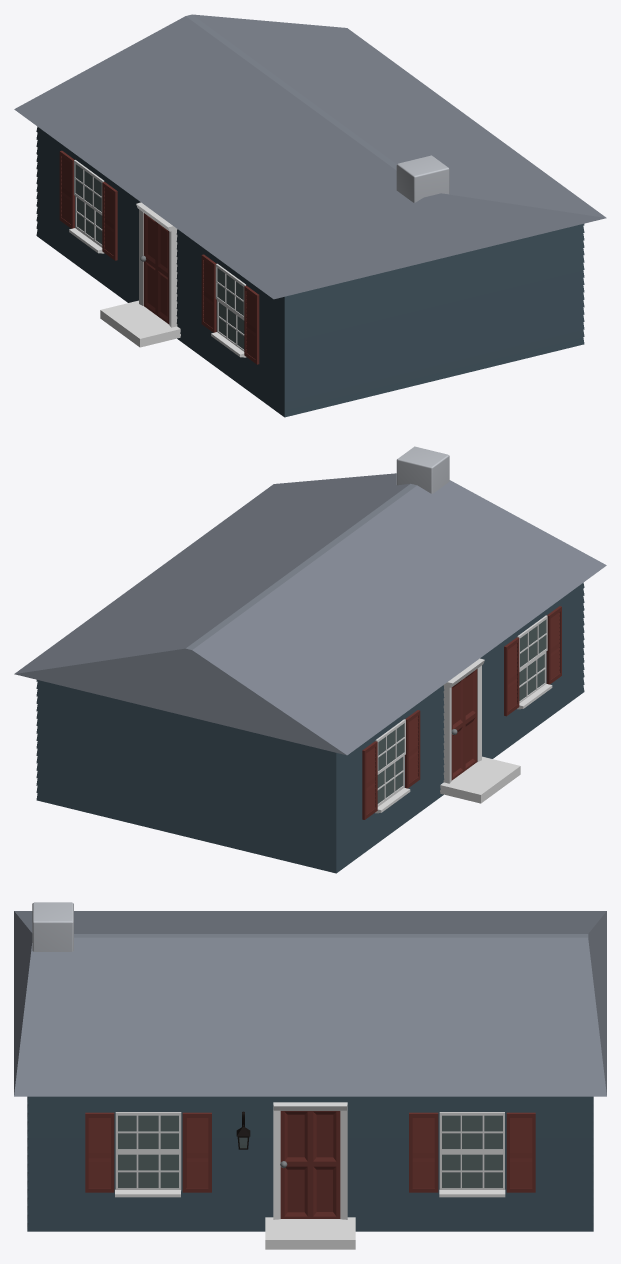
The model's file is blackie_house.fbx.
The picture shows the model from 3 angles, top to bottom: view 1: azimuth 30°, elevation 25°; view 2: azimuth 150°, elevation 25°; view 3: azimuth 270°, elevation 25°; orthographic projection. The views are drawn at different scales.
Parts seen in each view (by area): view 1: new_base, front_door, window_panel_r (×2), window_panel_l (×2), back_door_stoop, chimney1, front_door_frame, window_glass1 (×2), window_glass (×2), window_boxes; view 2: new_base, front_door, window_panel_l (×2), window_panel_r (×2), back_door_stoop, chimney1, front_door_frame, window_glass (×2), window_glass1 (×2); view 3: new_base, front_door, window_panel_r (×2), window_panel_l (×2), window_glass (×2), window_glass1 (×2), front_door_stoop, front_door_frame, window_boxes (×2), chimney1, window_boxes1 (×2), sill_4 (+1 smaller).
Part boxes in pixels (x1,y1,x2,y2): new_base: (14,14,606,417); front_door: (143,213,169,324); window_panel_r (×2): (102,182,259,364); window_panel_l (×2): (59,150,216,332); back_door_stoop: (100,300,180,347); chimney1: (396,155,449,202); front_door_frame: (136,202,177,327); window_glass1 (×2): (77,197,244,349); window_glass (×2): (75,164,243,315); window_boxes: (215,263,245,319); new_base: (14,473,606,873); front_door: (451,669,477,780); window_panel_l (×2): (362,637,519,819); window_panel_r (×2): (405,606,561,788); back_door_stoop: (440,756,520,803); chimney1: (396,446,449,493); front_door_frame: (443,658,484,783); window_glass (×2): (378,619,546,770); window_glass1 (×2): (377,654,544,803); new_base: (14,911,606,1231); front_door: (280,1111,340,1218); window_panel_r (×2): (182,1112,535,1192); window_panel_l (×2): (85,1112,438,1192); window_glass (×2): (118,1115,502,1149); window_glass1 (×2): (118,1154,502,1188); front_door_stoop: (265,1217,355,1249); front_door_frame: (273,1102,347,1219); window_boxes (×2): (115,1112,504,1152); chimney1: (32,902,73,951); window_boxes1 (×2): (115,1152,504,1190); sill_4: (439,1190,505,1197).
Bounding box in the file's own units: 46.03 × 23.96 × 54.47.
